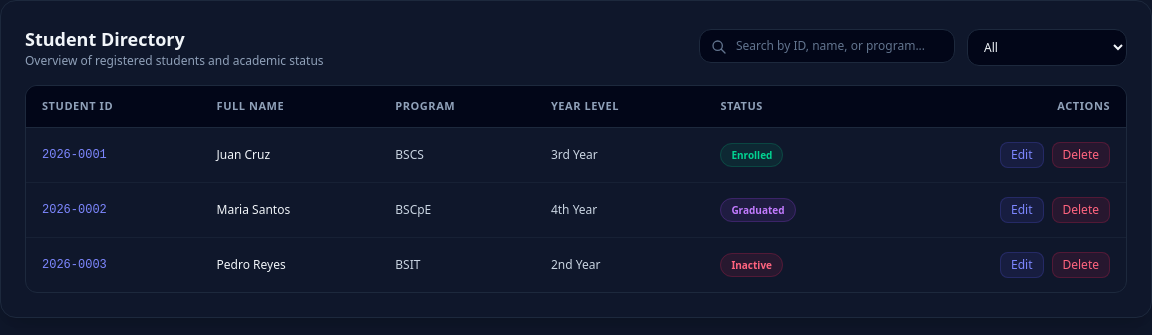
Scenario: StudentTable - Module 9 Status Filter › filters students by enrollment status
Select "Enrolled" in the dropdown at x=1047, y=47, box x1=967 y1=28 x2=1127 y2=66
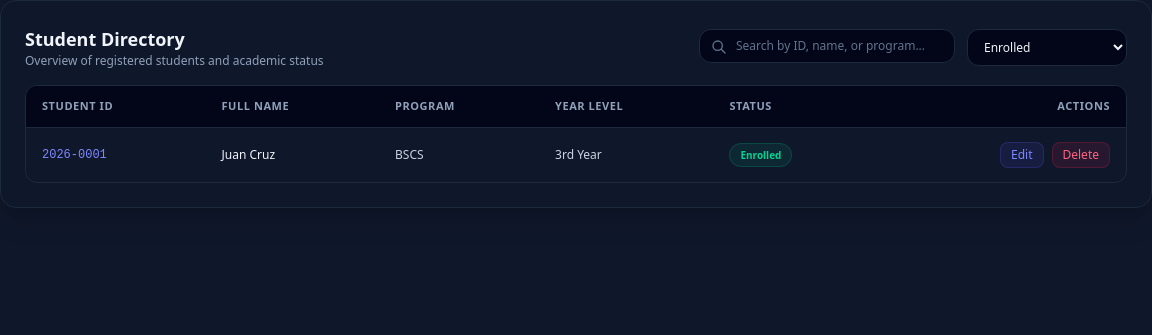
Expected: the row "2026-0001 Juan Cruz BSCS 3rd Year Enrolled Edit Delete" is shown, x1=26 y1=127 x2=1126 y2=182
Result: the cell no longer shows "Maria Santos"
